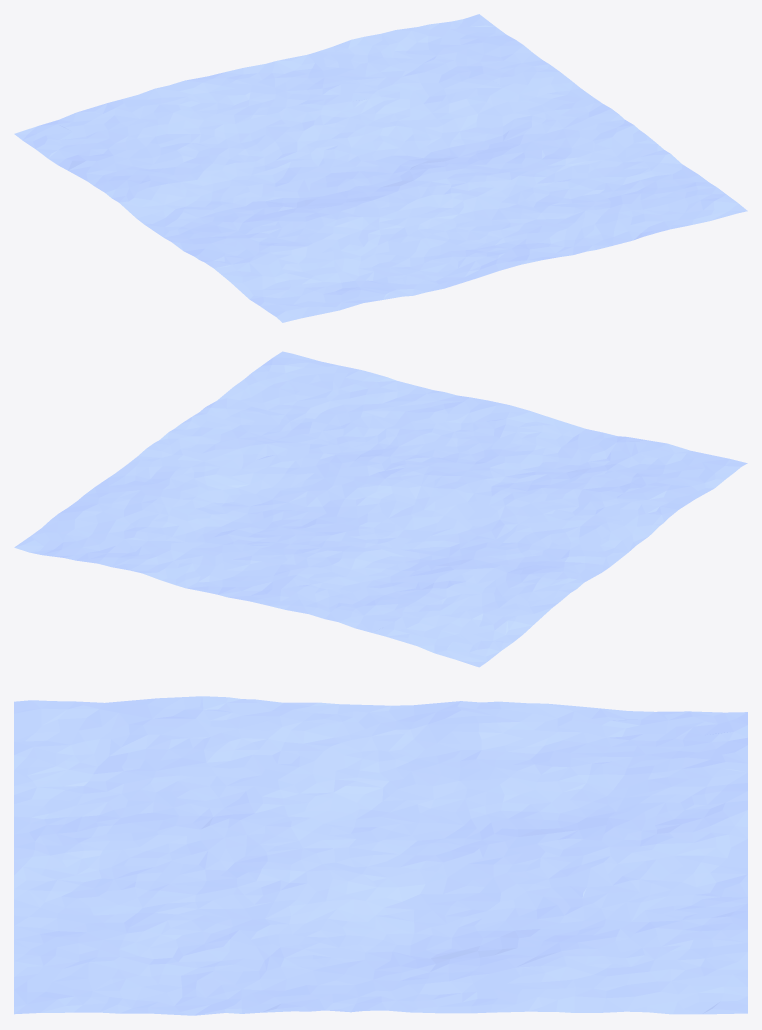
File: polyWater.fbx
The picture shows the model from 3 angles, top to bottom: view 1: azimuth 30°, elevation 25°; view 2: azimuth 150°, elevation 25°; view 3: azimuth 270°, elevation 25°; orthographic projection. The views are drawn at different scales.
Parts seen in each view (by area): view 1: Plane.002; view 2: Plane.002; view 3: Plane.002.
Boxes of the visible parts, bbox=[...] form: Plane.002: bbox=[14, 14, 747, 322]; Plane.002: bbox=[14, 351, 747, 667]; Plane.002: bbox=[14, 696, 747, 1015].
Size of the model in its own units: 200 by 5.53 by 200.
